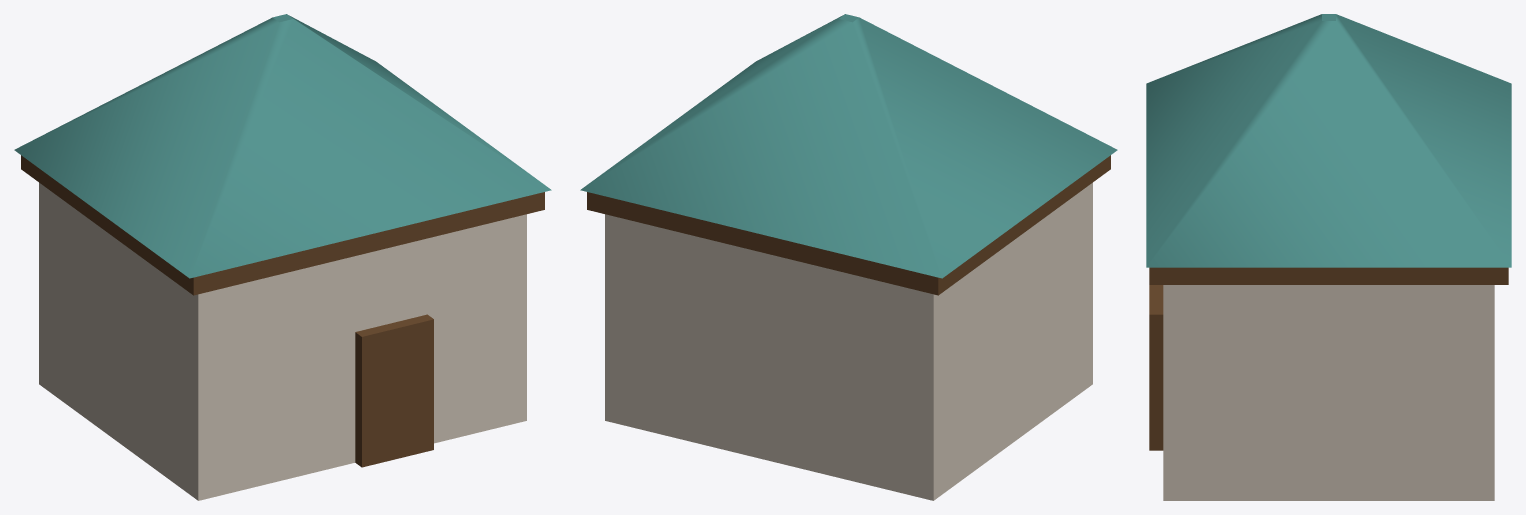
The model's file is house-standin-a.glb.
3 views of the same model, side by side, from view 1: azimuth 30°, elevation 25°; view 2: azimuth 150°, elevation 25°; view 3: azimuth 270°, elevation 25° (orthographic). The views are drawn at different scales.
Parts seen in each view (by area): view 1: plaster, roof, wooddark; view 2: plaster, roof, wooddark; view 3: roof, plaster, wooddark.
Part boxes in pixels (x1,y1,x2,y2): plaster: (39,182,526,500); roof: (14,14,551,278); wooddark: (21,155,544,467); plaster: (605,182,1092,500); roof: (580,14,1117,278); wooddark: (587,155,1110,295); roof: (1146,14,1511,267); plaster: (1163,285,1494,500); wooddark: (1149,267,1508,450).
Bounding box in the file's own units: 5.52 × 5.59 × 4.63.
